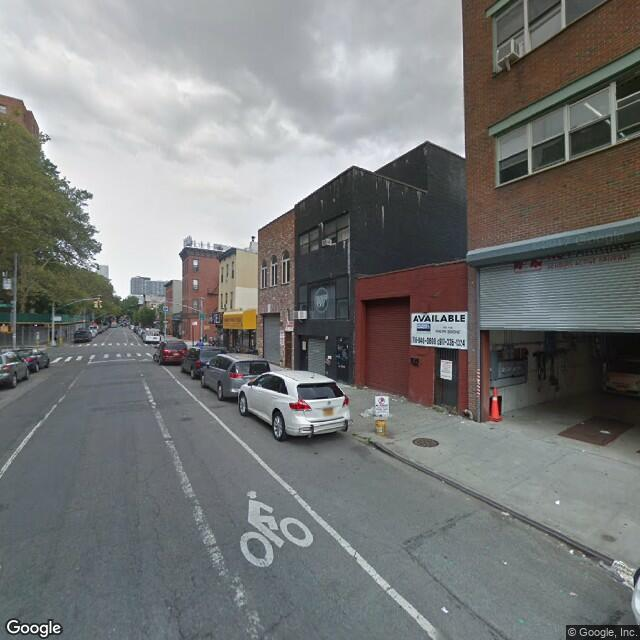litter: (549, 495, 568, 507), (496, 509, 514, 519)
